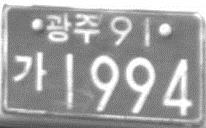1: (64, 51, 78, 113), (141, 16, 154, 50)
4: (162, 56, 196, 119)
9: (125, 56, 158, 114), (89, 52, 120, 112), (107, 13, 134, 47)
가: (12, 48, 49, 93)
광주_O: (46, 9, 100, 45)
